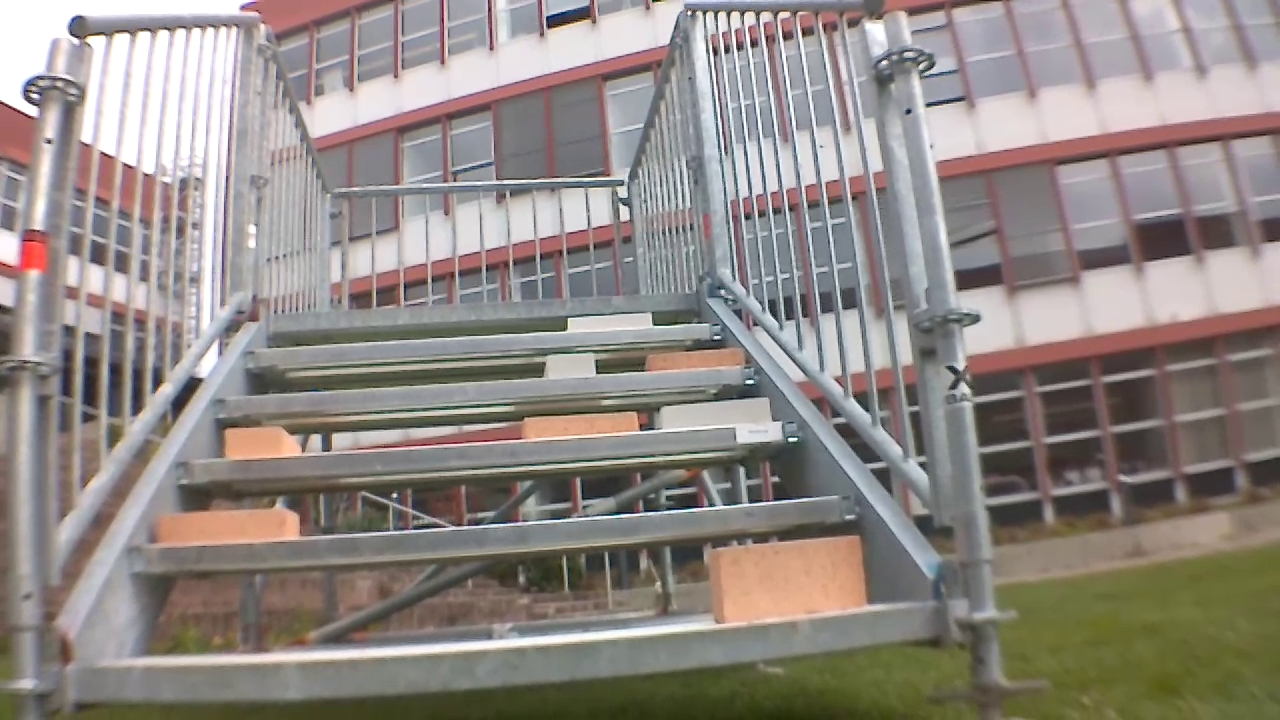brick: (706, 534, 864, 627), (149, 505, 298, 548), (650, 397, 777, 430), (521, 410, 639, 441), (214, 422, 302, 457), (645, 345, 737, 371), (536, 350, 601, 380), (572, 310, 646, 333)
edge: (56, 602, 962, 707), (108, 497, 856, 573), (174, 422, 808, 486), (215, 358, 763, 416), (236, 318, 729, 370), (266, 290, 707, 329)
stairs: (20, 7, 1013, 699)
steps: (58, 289, 943, 708)
